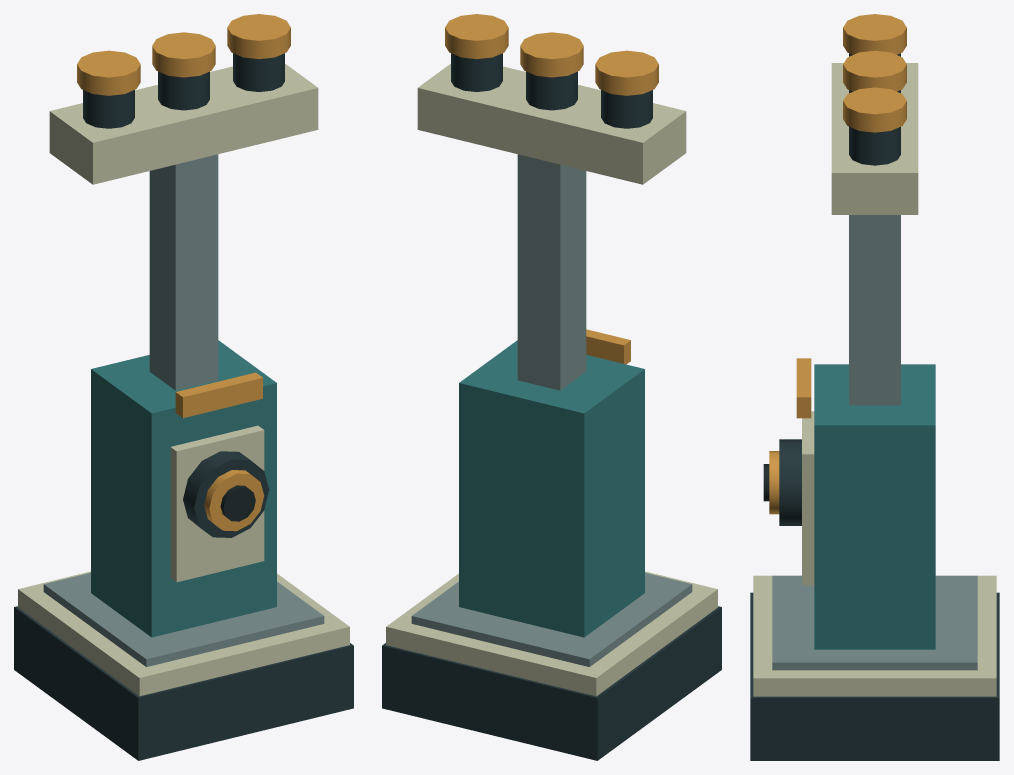
The model's file is power-junction.glb.
The picture shows the model from 3 angles, left to right: view 1: azimuth 30°, elevation 25°; view 2: azimuth 150°, elevation 25°; view 3: azimuth 270°, elevation 25°; orthographic projection.
Parts seen in each view (by area): view 1: Batched static factory; view 2: Batched static factory; view 3: Batched static factory.
Part boxes in pixels (x1,y1,x2,y2): Batched static factory: (14,14,353,760); Batched static factory: (382,14,721,760); Batched static factory: (750,14,999,760).
Size of the model in its own units: 0.9 by 2.45 by 0.86.
